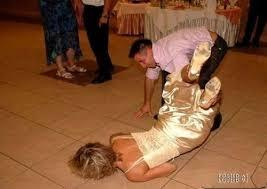fallen: (65, 72, 232, 187)
